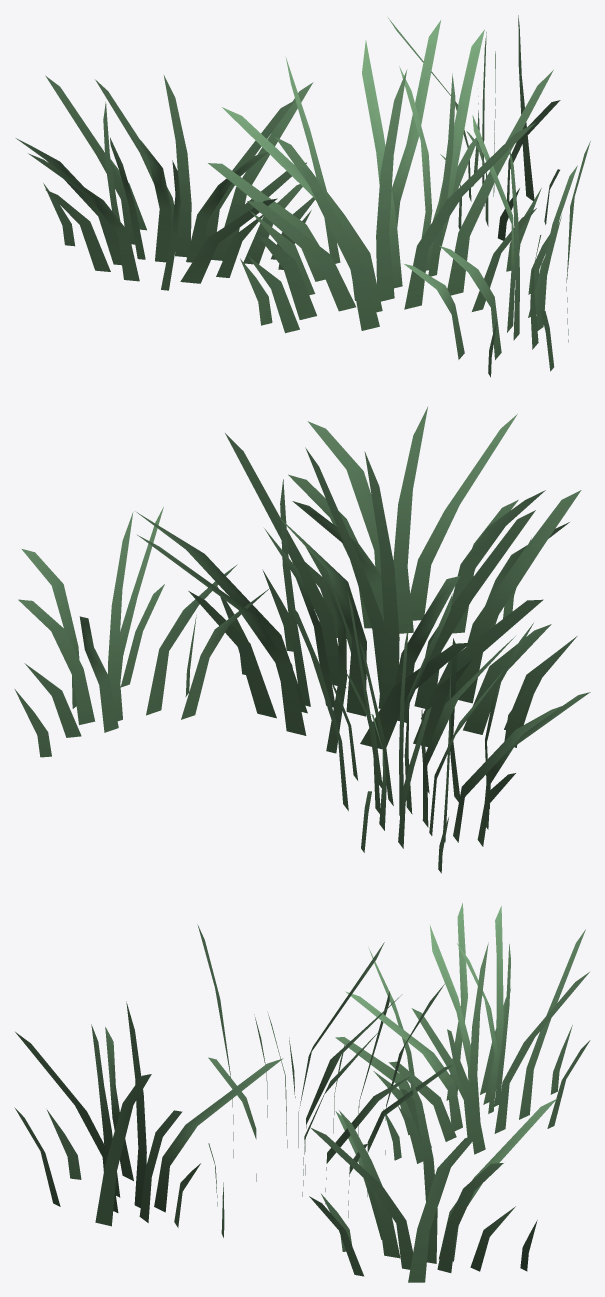
The model's file is qn_grass.glb.
The picture shows the model from 3 angles, top to bottom: view 1: azimuth 30°, elevation 25°; view 2: azimuth 150°, elevation 25°; view 3: azimuth 270°, elevation 25°; orthographic projection. The views are drawn at different scales.
Visible parts, largest first — view 1: Grass_Large.001; view 2: Grass_Large.001; view 3: Grass_Large.001.
Boxes of the visible parts, x1,y1,x2,y2 form: Grass_Large.001: (16,15,590,377); Grass_Large.001: (14,407,590,873); Grass_Large.001: (14,903,590,1282).
Size of the model in its own units: 1.12 by 0.4851 by 1.12.
1 material, 1 textured.
